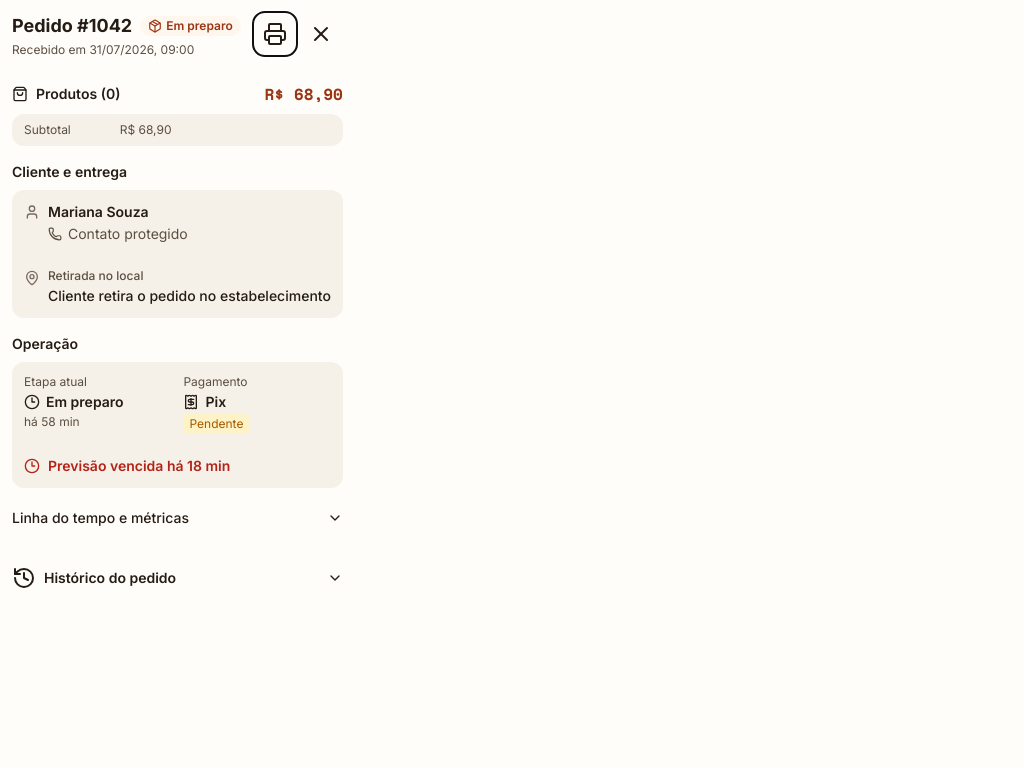
Test: OrderDetailModal › retira a versão do cabeçalho, mas a preserva no histórico
Check: the text "Versão 3" is not shown
Check: the text "versão 3" is not shown
Click the button "Histórico do pedido" at (177, 578), box [12, 556, 343, 600]
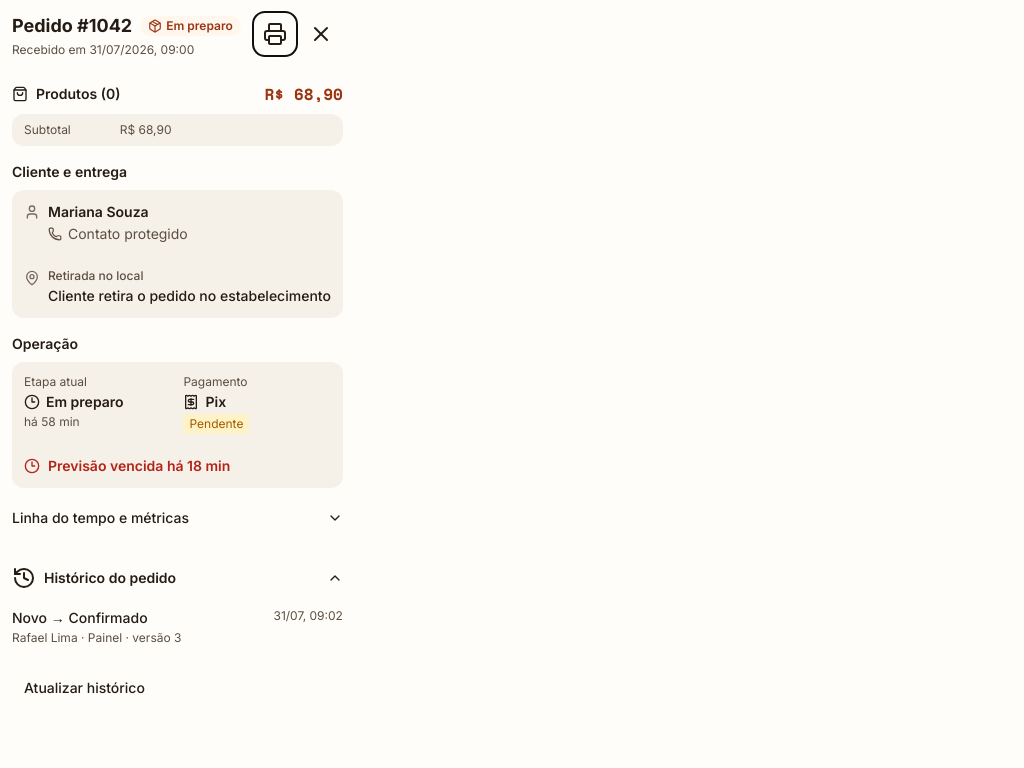
Check: the text "Previsão vencida há 18 min" is shown, box [24, 457, 230, 474]
Check: the text "Rafael Lima · Painel · versão 3" is shown, box [12, 630, 182, 646]
